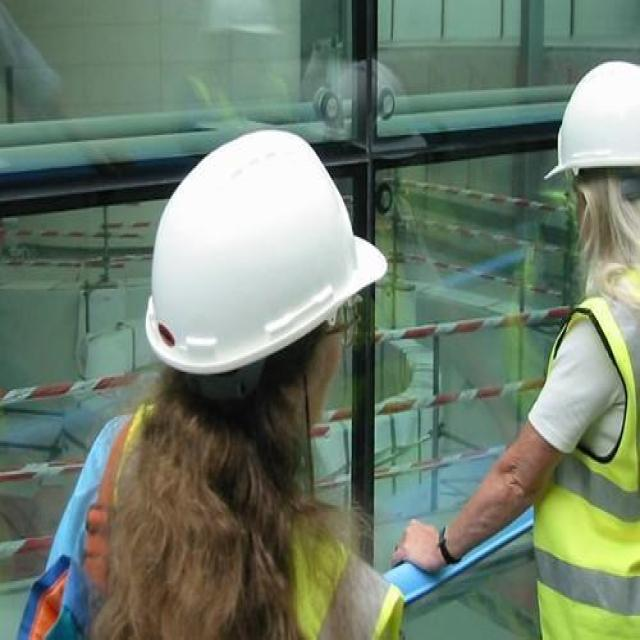Vest: (113, 396, 407, 637), (527, 287, 639, 638)
